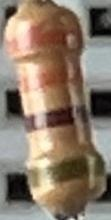Black: (28, 105, 90, 132)
Green: (29, 153, 104, 191)
Orange: (18, 65, 83, 94)
Side-Silver: (6, 21, 82, 61)
